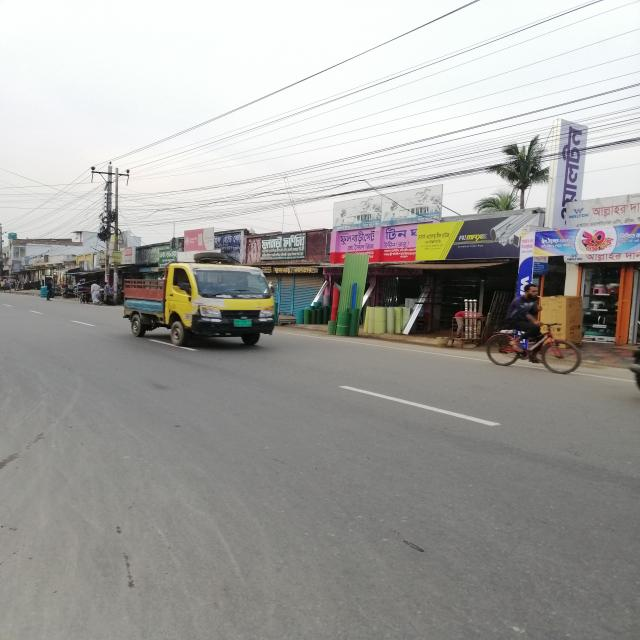Bicycle: (483, 321, 593, 379)
Pick-up-van: (113, 246, 288, 348)
